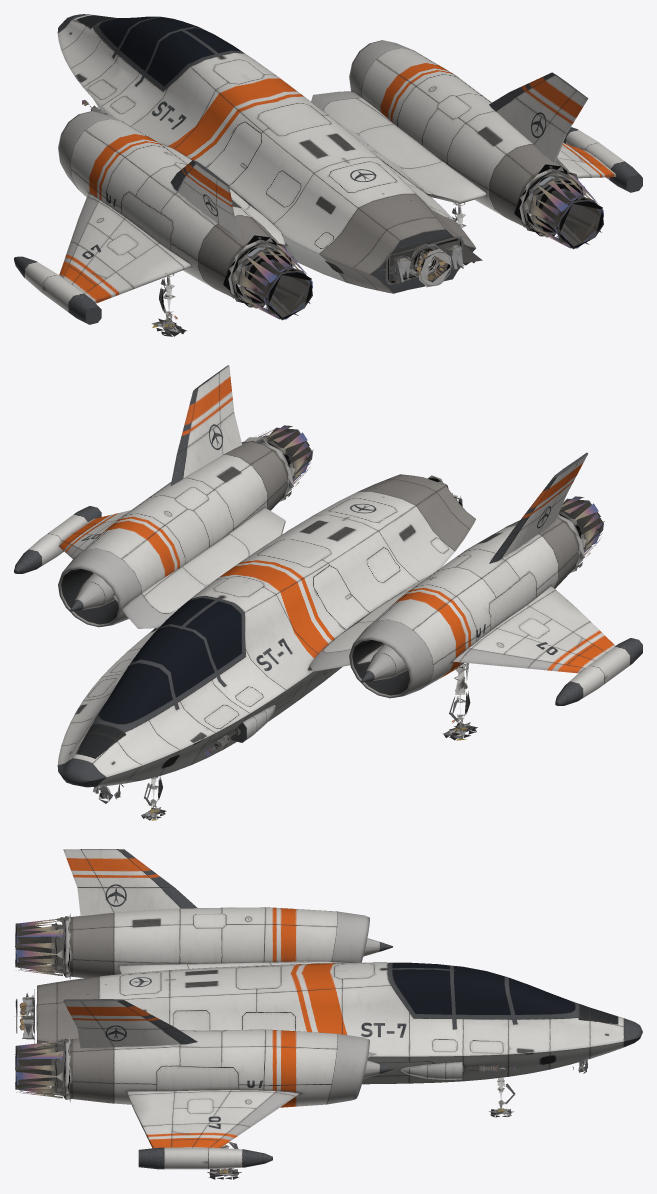
Rendered from tern_lod2.gltf.
The picture shows the model from 3 angles, top to bottom: view 1: azimuth 30°, elevation 25°; view 2: azimuth 150°, elevation 25°; view 3: azimuth 270°, elevation 25°; orthographic projection. The views are drawn at different scales.
Visible parts, largest first — view 1: Hull, EngineNozzle_R, EngineNozzle_L, Glass, DriftDrive.001, Decals, GearMainL; view 2: Hull, Glass, EngineNozzle_R, EngineNozzle_L, GearMainL, Decals; view 3: Hull, Glass, EngineNozzle_R, EngineNozzle_L, Decals, DriftDrive.001.
Part boxes in pixels (box(x1,y1,x2,y2)): Hull: box(14, 14, 642, 324); EngineNozzle_R: box(514, 164, 603, 249); EngineNozzle_L: box(223, 235, 312, 320); Glass: box(99, 16, 240, 86); DriftDrive.001: box(381, 236, 482, 287); Decals: box(82, 101, 546, 258); GearMainL: box(151, 274, 186, 336); Hull: box(14, 365, 642, 787); Glass: box(99, 598, 242, 724); EngineNozzle_R: box(241, 425, 313, 501); EngineNozzle_L: box(557, 496, 604, 572); GearMainL: box(443, 663, 477, 740); Decals: box(81, 424, 557, 670); Hull: box(36, 849, 642, 1169); Glass: box(392, 962, 575, 1014); EngineNozzle_R: box(14, 1035, 74, 1102); EngineNozzle_L: box(15, 913, 74, 979); Decals: box(105, 884, 406, 1128); DriftDrive.001: box(14, 989, 34, 1043).
Size of the model in its own units: 13.69 by 5.14 by 15.44.
Materials: 5 (4 with a texture image).
